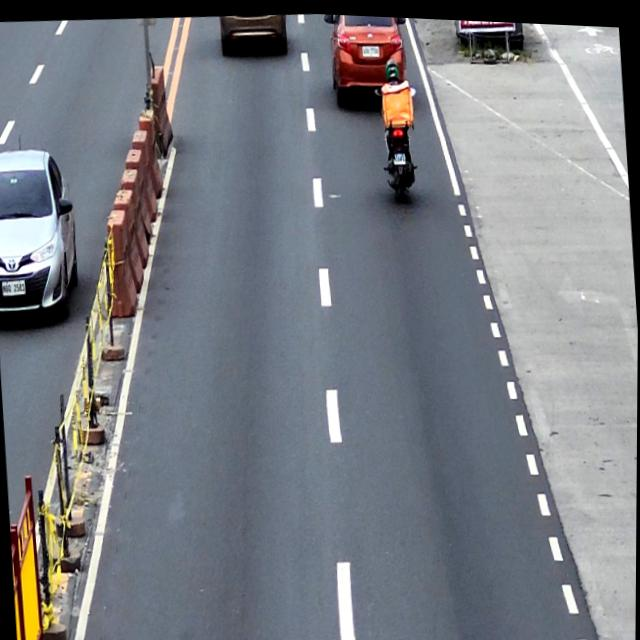Car: (0, 144, 83, 331), (322, 11, 412, 109)
License-Plate: (1, 278, 27, 297), (361, 40, 379, 55), (391, 147, 406, 162)
Motorcycle: (374, 79, 422, 200)
